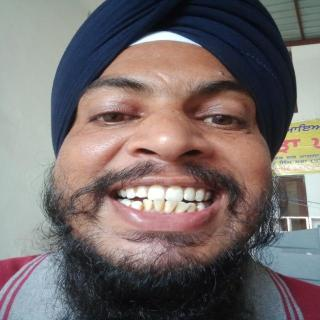maligned: (164, 199, 178, 213), (176, 200, 190, 212), (153, 199, 165, 211), (142, 198, 154, 209), (132, 200, 144, 211), (186, 202, 197, 212)
stains: (138, 204, 147, 212), (194, 202, 201, 212), (162, 203, 168, 213), (171, 205, 178, 213), (150, 202, 156, 210), (131, 188, 139, 194), (121, 188, 128, 194), (183, 208, 189, 214), (194, 190, 198, 198), (127, 204, 133, 209), (146, 190, 150, 194)
